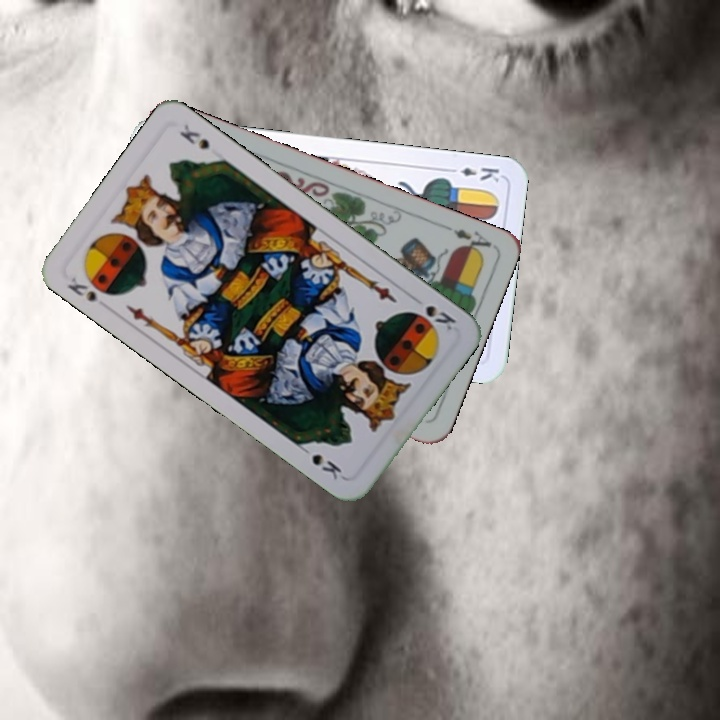EA: (439, 220, 495, 258)
EK: (443, 163, 502, 185)
SK: (407, 292, 459, 335), (63, 273, 99, 305)
